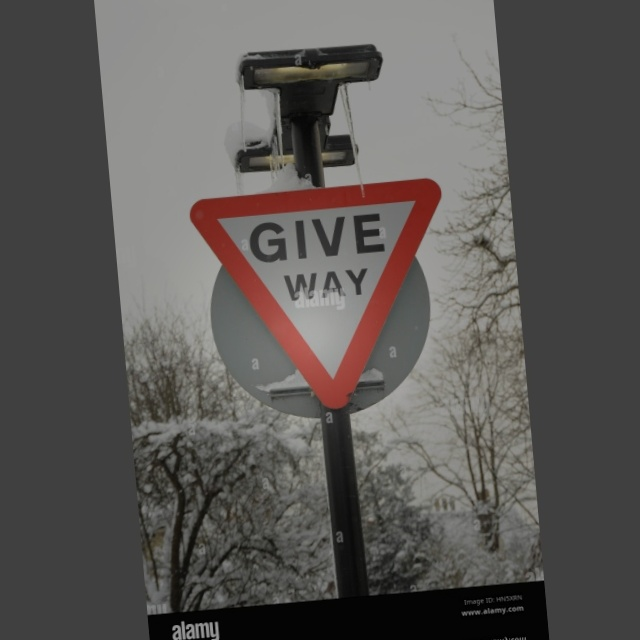Give_Way: (191, 176, 456, 424)
